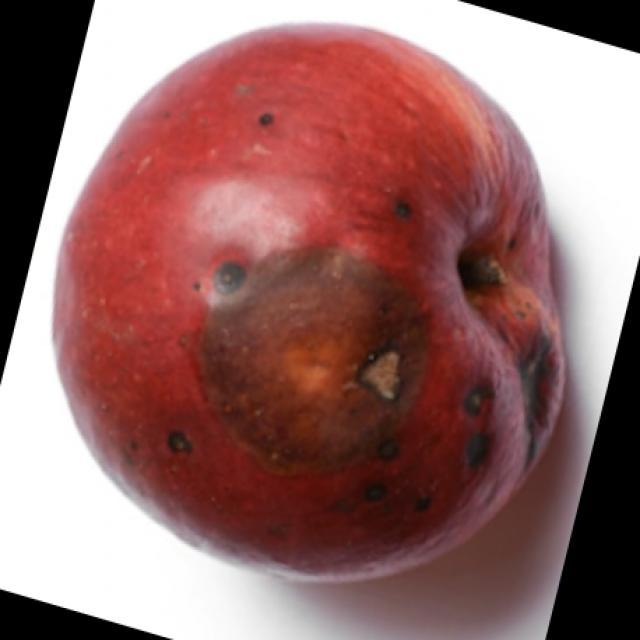Rotten: (55, 11, 547, 556)
